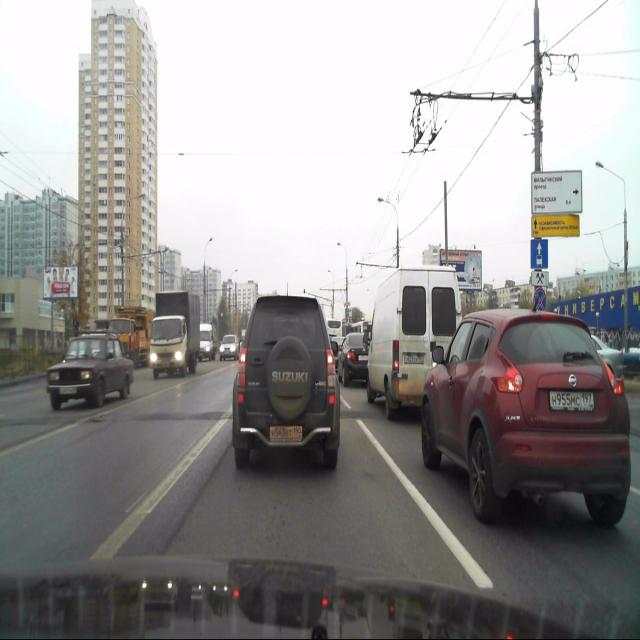road sign: (530, 239, 548, 269), (530, 272, 548, 286)
